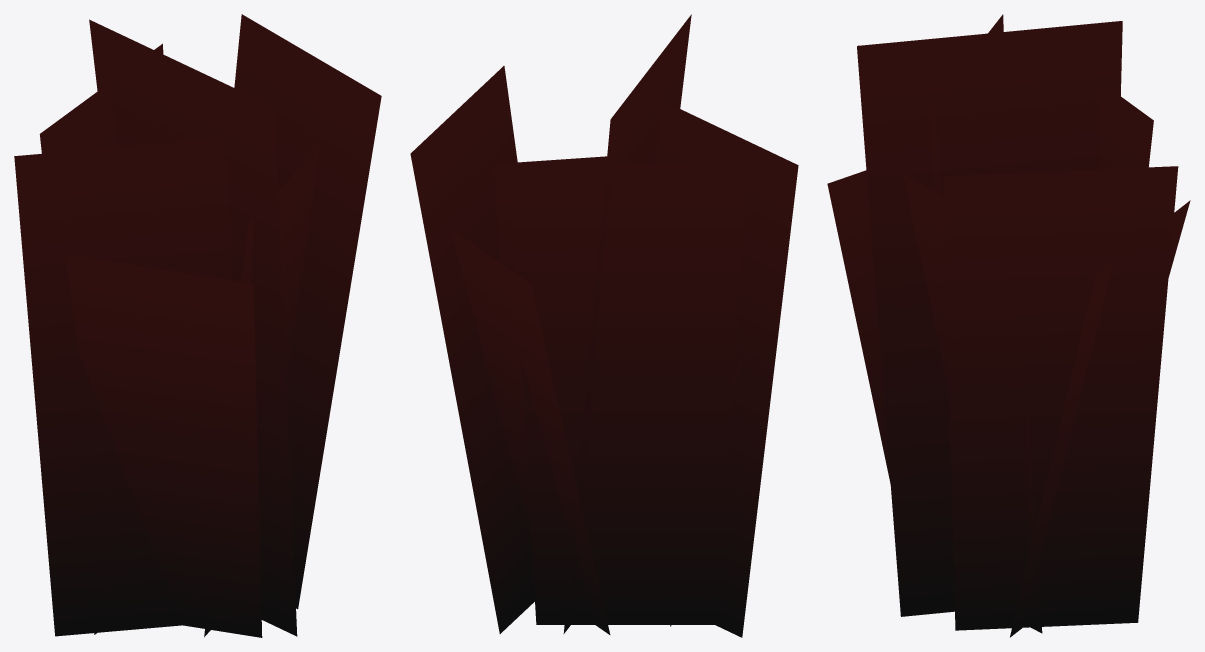
The model's file is TFD_Grass_Patch_04A.fbx.
3 renders of one model, left to right at view 1: azimuth 30°, elevation 25°; view 2: azimuth 150°, elevation 25°; view 3: azimuth 270°, elevation 25°, orthographic. The views are drawn at different scales.
Visible parts, largest first — view 1: TFD_Grass_Patch_04A_LOD0; view 2: TFD_Grass_Patch_04A_LOD0; view 3: TFD_Grass_Patch_04A_LOD0.
Part boxes in pixels (bbox=[...]): TFD_Grass_Patch_04A_LOD0: bbox=[14, 14, 381, 637]; TFD_Grass_Patch_04A_LOD0: bbox=[410, 14, 798, 637]; TFD_Grass_Patch_04A_LOD0: bbox=[827, 14, 1190, 637].
Bounding box in the file's own units: 65.73 × 104 × 62.18.
